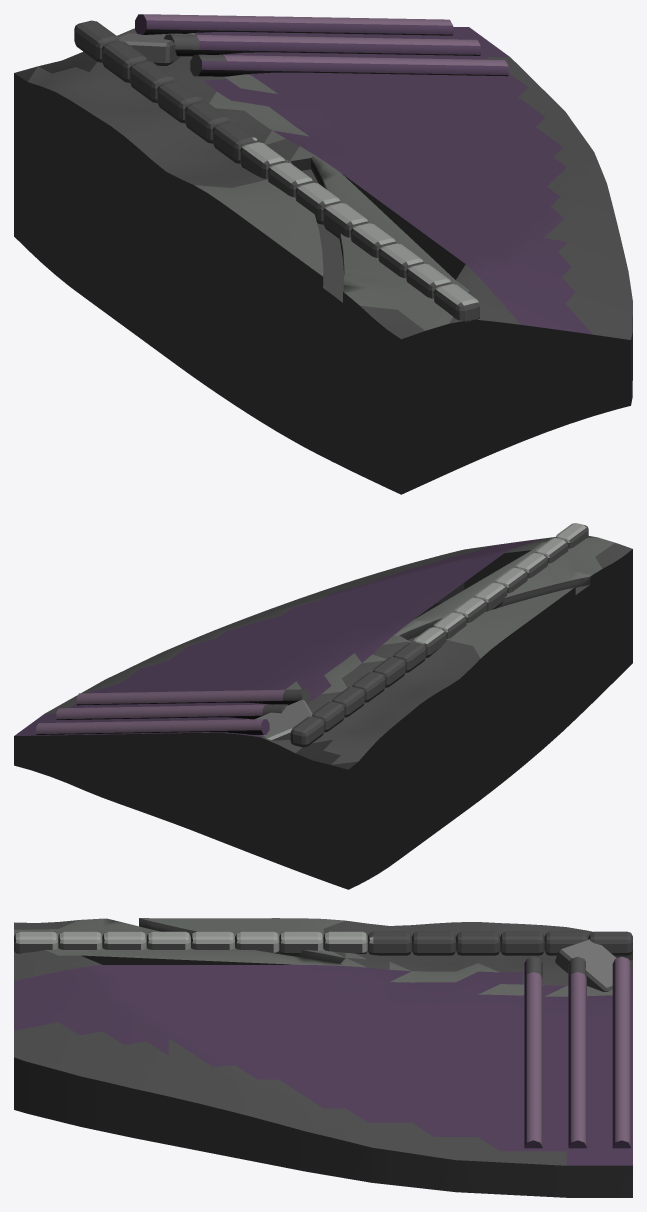
Rendered from camanis_boss_284.glb.
3 views of the same model, one above another, from view 1: azimuth 30°, elevation 25°; view 2: azimuth 150°, elevation 25°; view 3: azimuth 270°, elevation 25° (orthographic). The views are drawn at different scales.
Visible parts, largest first — view 1: camanis_boss_284; view 2: camanis_boss_284; view 3: camanis_boss_284.
Boxes of the visible parts, box(x1,y1,x2,y2) form: camanis_boss_284: box(14, 14, 632, 494); camanis_boss_284: box(14, 523, 632, 889); camanis_boss_284: box(14, 918, 632, 1197).
Size of the model in its own units: 19 by 8.35 by 28.
